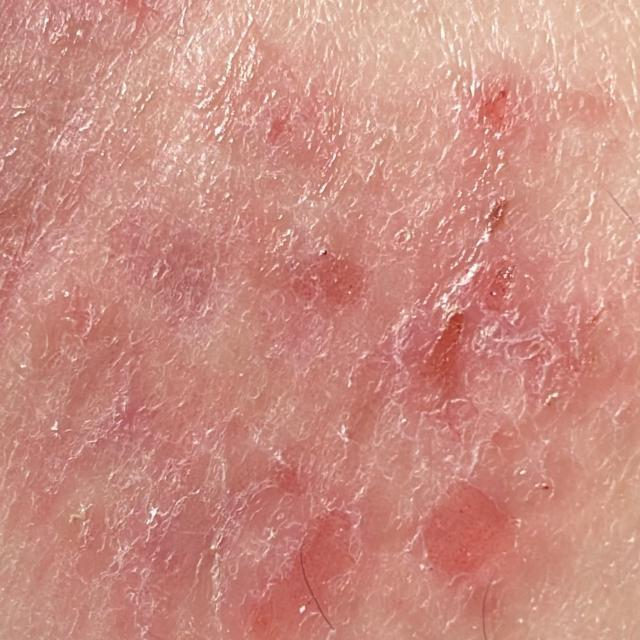Eczema: (26, 54, 588, 626)
